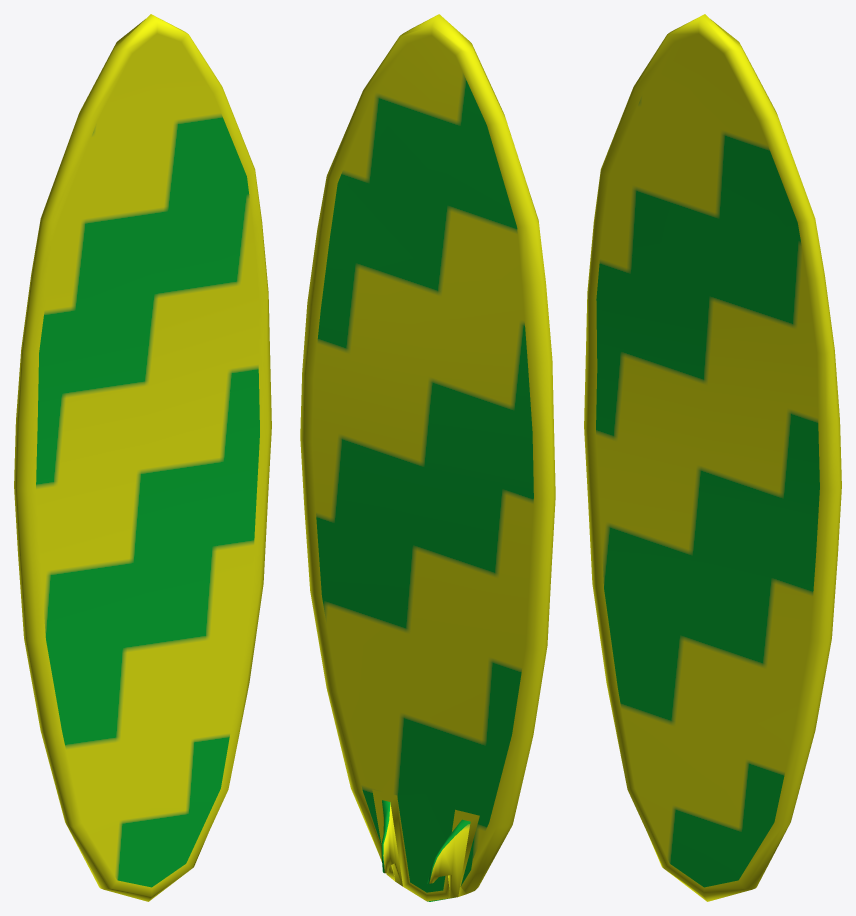
The model's file is Surfboard 5.fbx.
3 views of the same model, side by side, from view 1: azimuth 30°, elevation 25°; view 2: azimuth 150°, elevation 25°; view 3: azimuth 330°, elevation 25° (orthographic).
Parts seen in each view (by area): view 1: Surfboard.005; view 2: Surfboard.005; view 3: Surfboard.005.
Boxes of the visible parts, x1,y1,x2,y2 form: Surfboard.005: (14,14,271,901); Surfboard.005: (300,14,555,901); Surfboard.005: (584,14,841,901).
Size of the model in its own units: 0.6273 by 2.1 by 0.1561.
